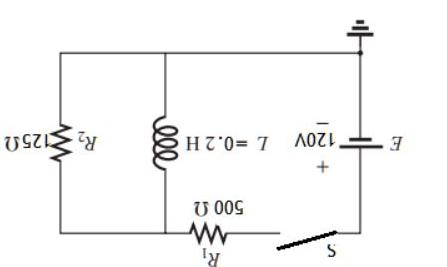inductor: (141, 99, 183, 183)
